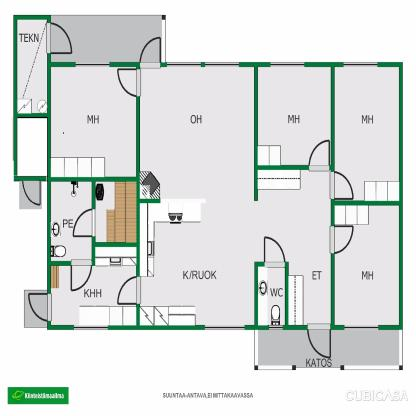door: (24, 290, 50, 328), (307, 136, 333, 174), (72, 208, 98, 242), (47, 23, 74, 55), (308, 324, 332, 360), (138, 33, 162, 68), (328, 225, 355, 254), (263, 235, 286, 269), (116, 275, 142, 305), (116, 67, 142, 96), (329, 172, 355, 200), (70, 260, 93, 291), (29, 294, 52, 322), (21, 179, 40, 208)
window: (203, 61, 239, 70), (205, 324, 245, 332), (269, 61, 304, 69), (343, 324, 379, 331), (166, 60, 201, 66), (73, 324, 108, 330), (75, 62, 110, 68), (343, 62, 375, 66), (270, 325, 282, 332)
zone: (142, 68, 331, 325), (51, 68, 136, 177), (336, 66, 398, 200), (333, 206, 400, 326), (257, 68, 330, 165), (54, 15, 164, 62), (258, 329, 399, 365), (52, 266, 138, 325), (52, 181, 92, 260), (17, 18, 48, 113), (96, 181, 136, 242), (17, 116, 46, 176)
